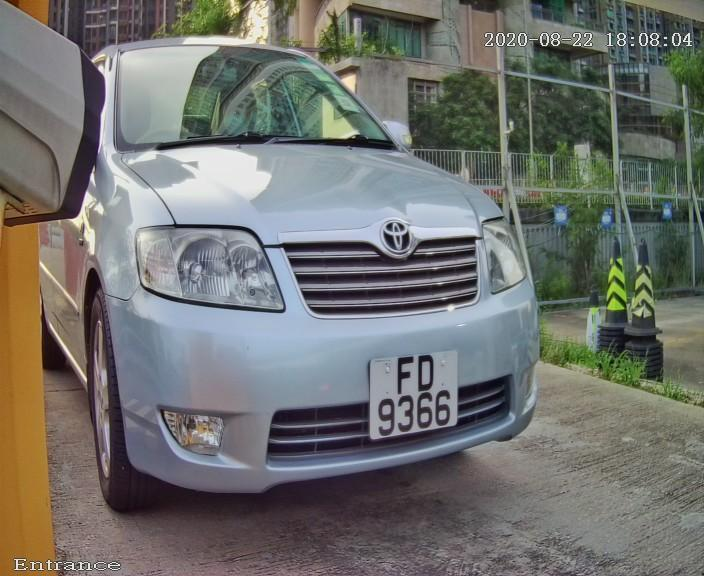Car: (19, 8, 598, 533)
License Plate: (341, 323, 489, 461)
